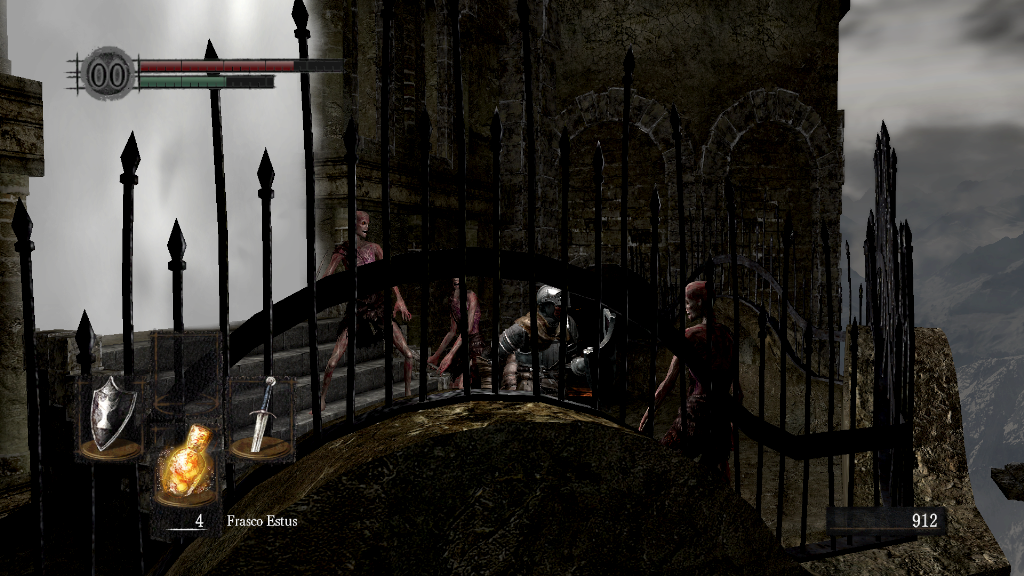health: (138, 58, 343, 71)
hollow: (639, 280, 743, 492), (319, 208, 421, 404), (427, 253, 483, 396)
humanity: (80, 45, 136, 102)
player: (472, 279, 620, 427)
souls: (825, 506, 945, 536)
stamina: (138, 74, 274, 88)
